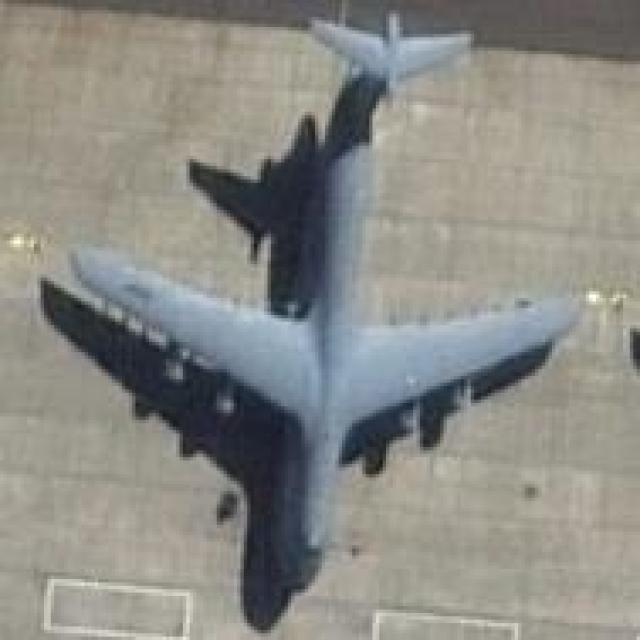C-5_TopDown: (34, 3, 586, 630)
